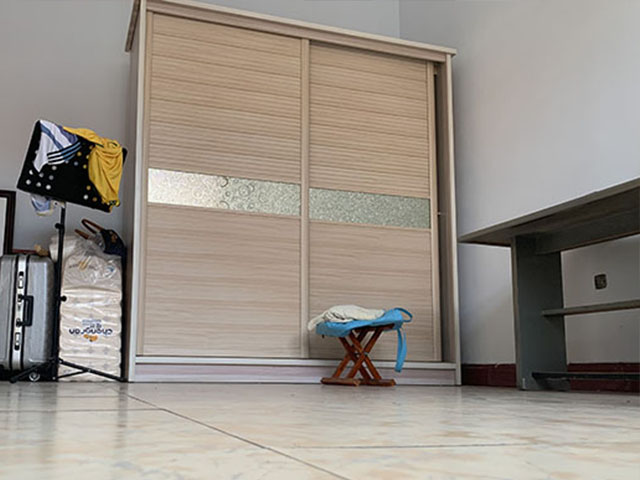cabinet: (118, 1, 463, 387)
stool: (321, 316, 398, 388)
table: (455, 172, 640, 395)
